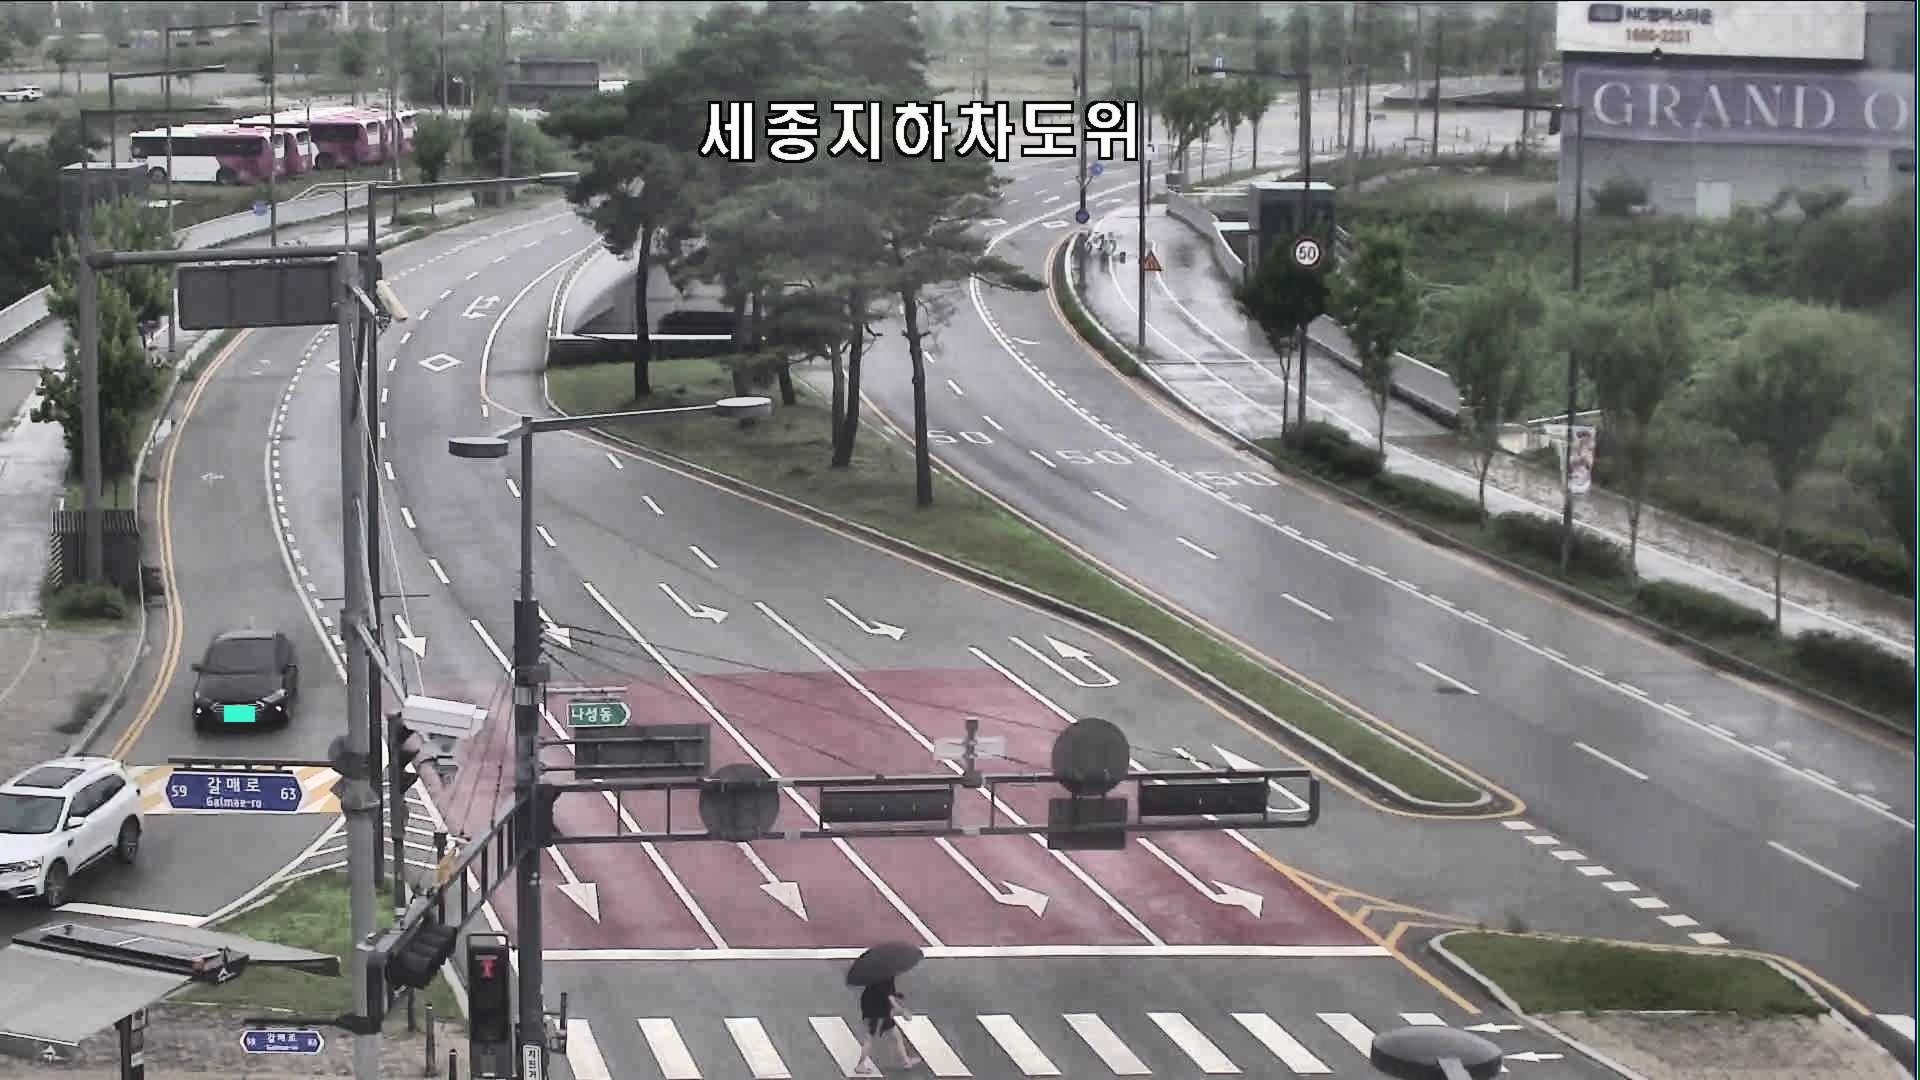um_crosswalk: (845, 945, 927, 1080)
